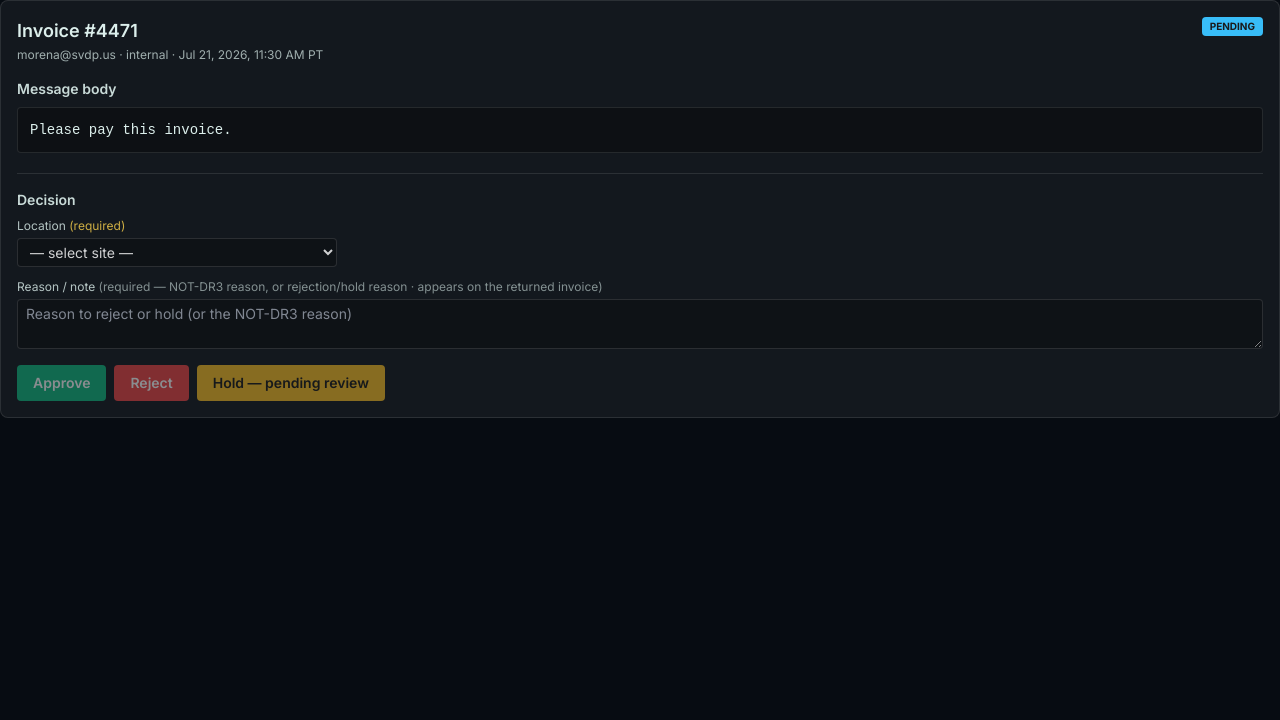
Test case: DetailPanel — structured Approve gating (Amendment 5) › Reject gates on the single note field, independent of the structured fields
This screenshot has width=1280, height=720.
Step 1. Select "Woodland" in the dropdown → point(177, 252), box [17,238,337,267]
(page scrolled)
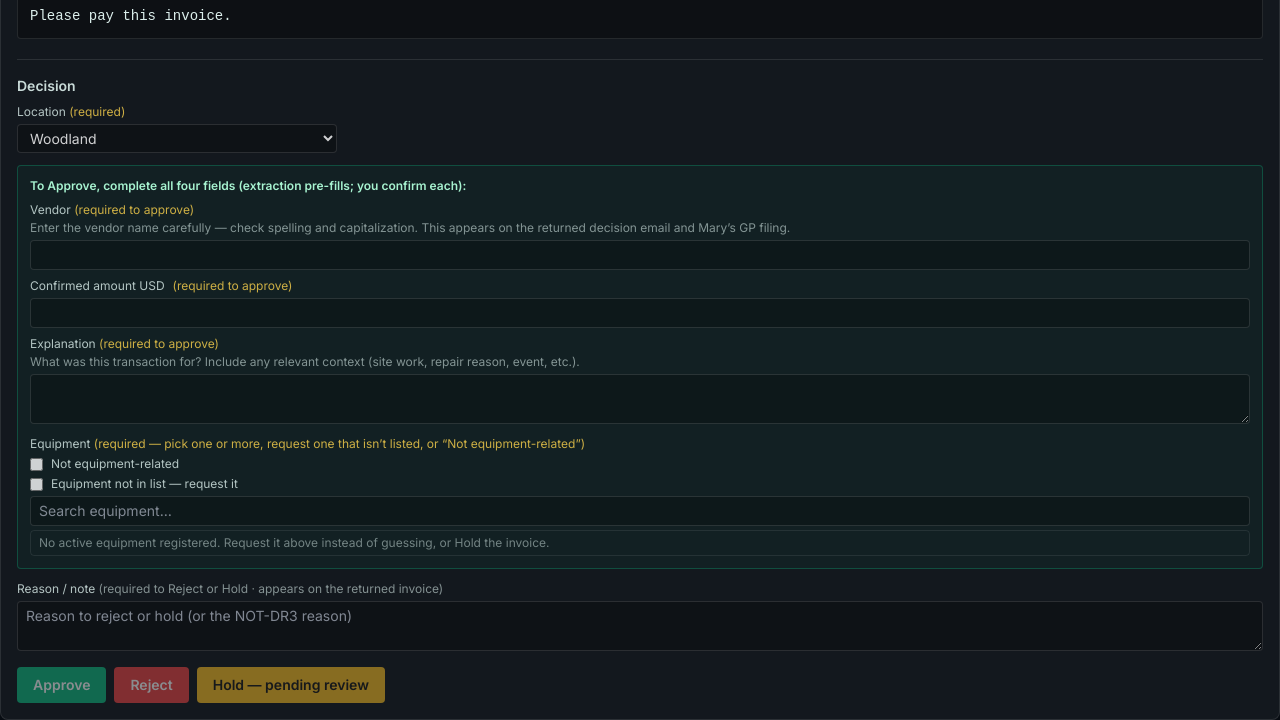
Expected: the button "Reject" is disabled, [114,667,189,703]
Step 2. Type "duplicate invoice" into the text box with placeholder "Reason to reject or hold (or the NOT-DR3 reason)" → point(640, 626), box [17,601,1263,651]
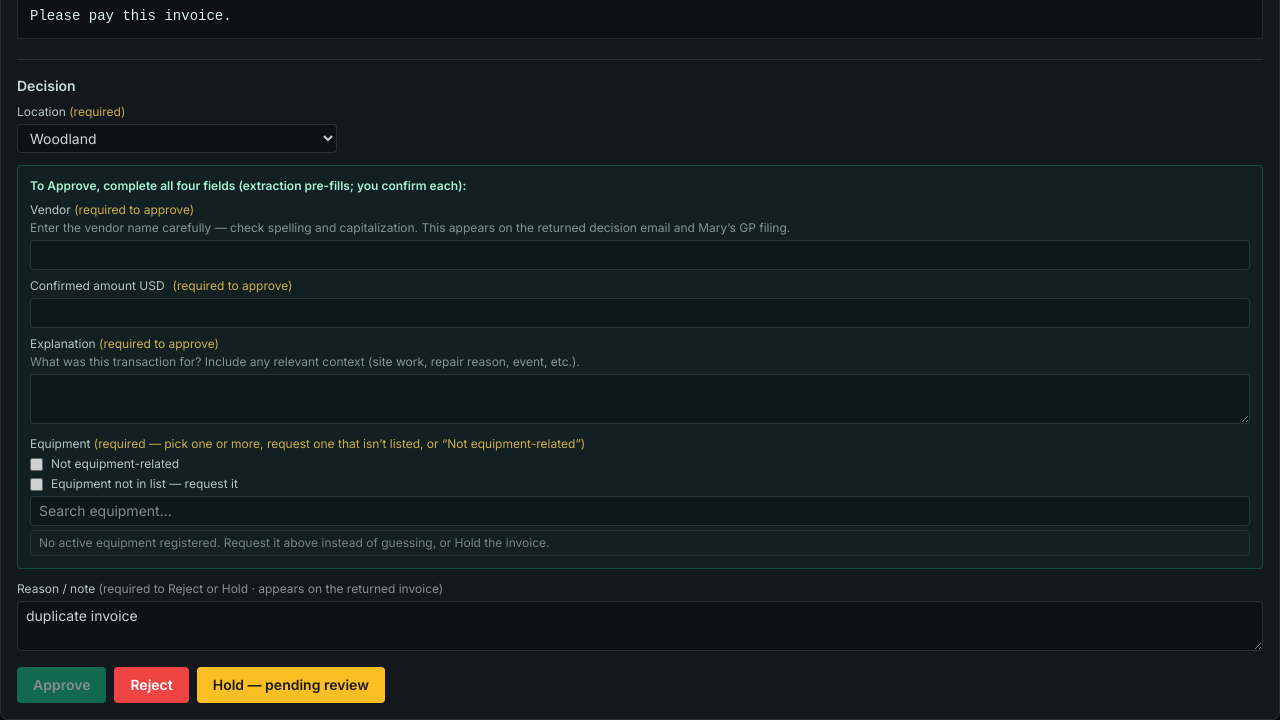
Expected: the button "Approve" is disabled, [17,667,106,703]
Now the button "Reject" is enabled, box [114,667,189,703]
